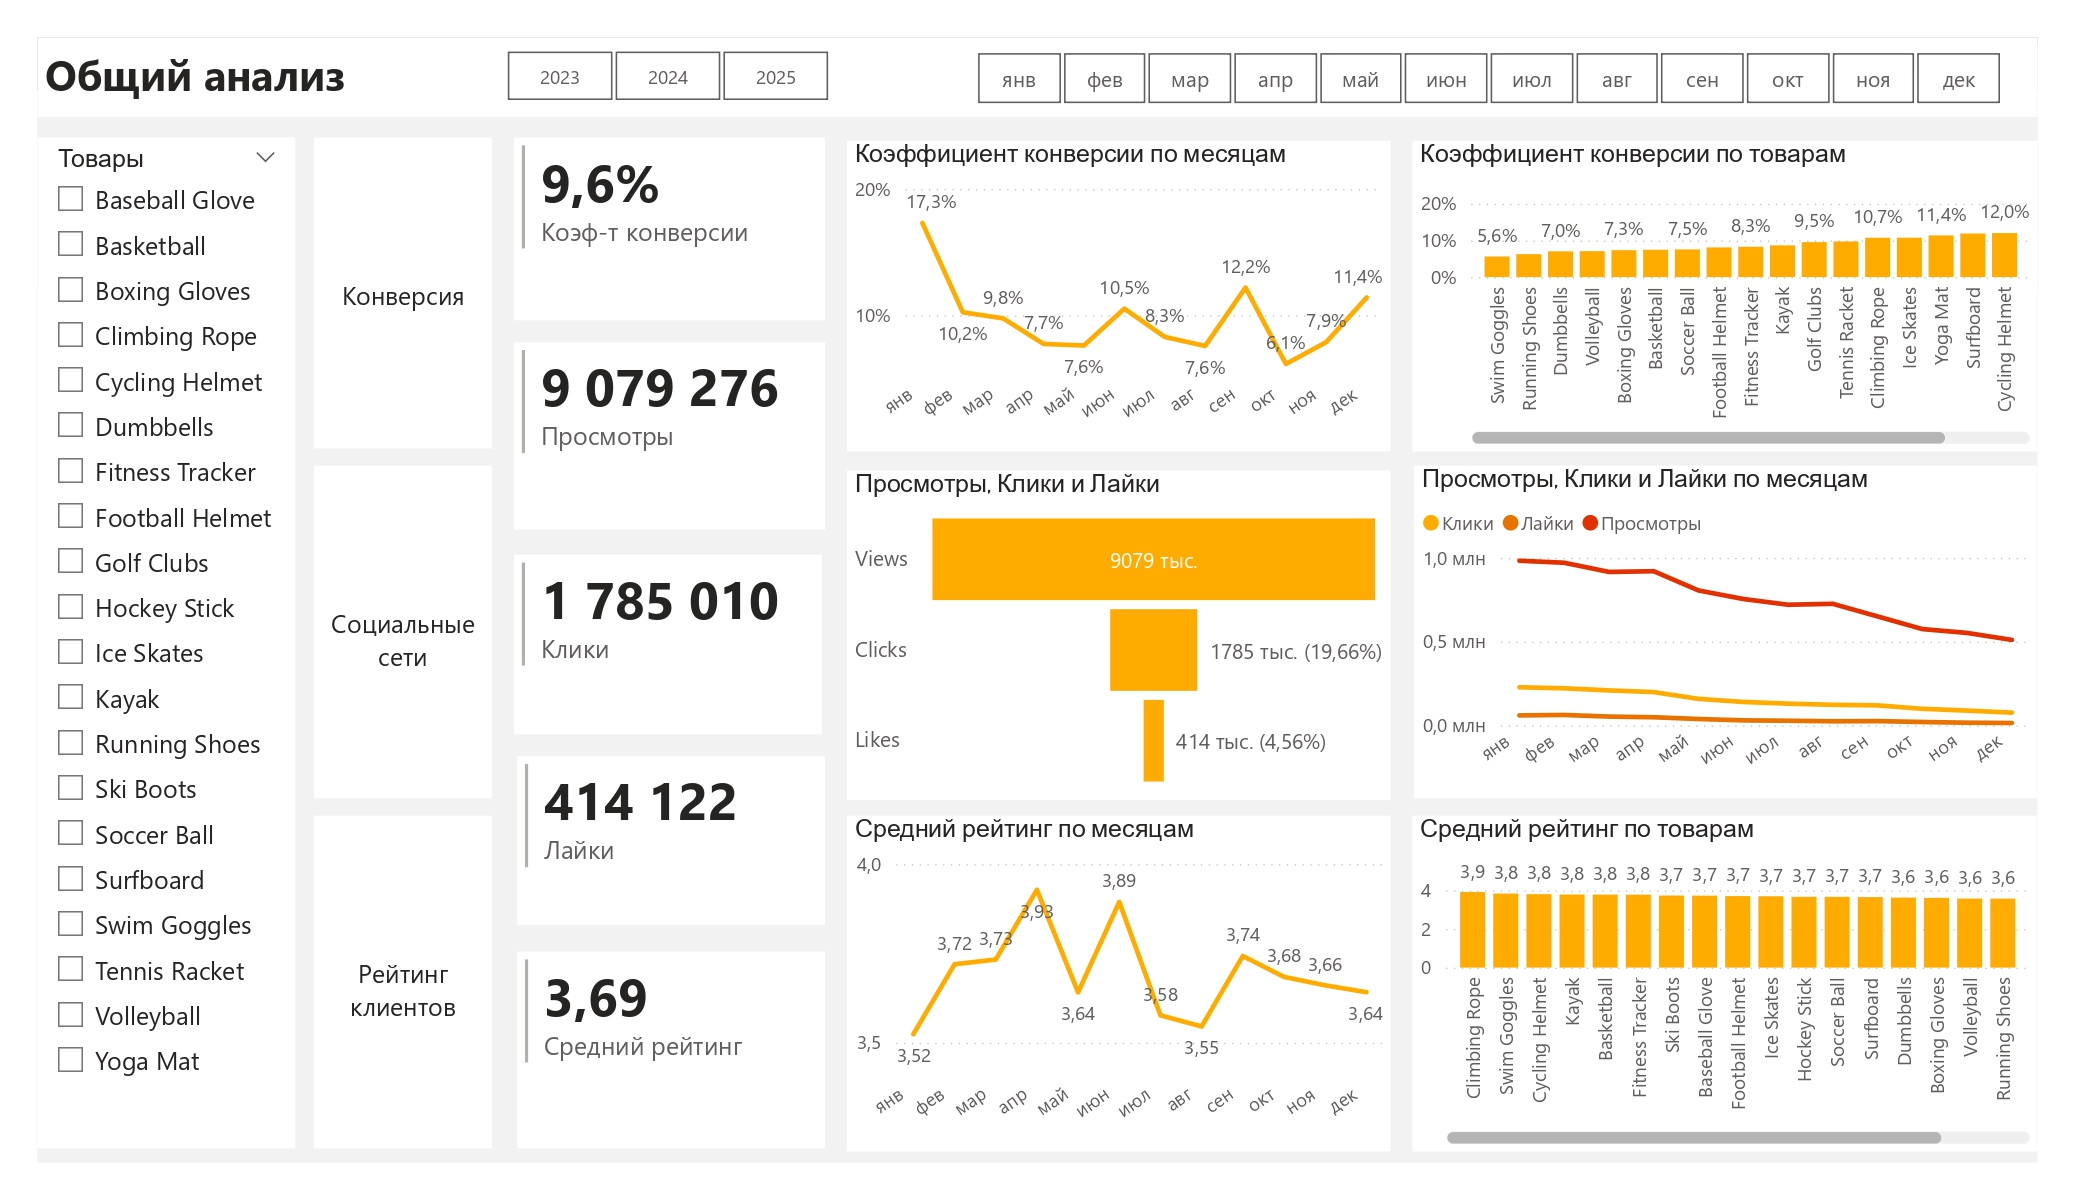

What the dashboard file says about the page in this screenshot:
{"tool":"powerbi","page":{"name":"Общий анализ","canvas":[1280,720],"ordinal":0},"visuals":[{"type":"actionButton","box":[0,0,100,40],"z":0},{"type":"textbox","box":[0,0,1280.3,50.8],"z":1000},{"type":"slicer","fields":{"Values":["dim_products.ProductName"]},"box":[0,64.5,164.7,646.3],"z":2000},{"type":"textbox","box":[177,64.5,113.9,199],"z":3000},{"type":"textbox","box":[177,274.4,113.9,212.7],"z":4000},{"type":"textbox","box":[177,498.1,113.9,212.7],"z":5000},{"type":"multiRowCard","fields":{"Values":["_Calculations.Conversion Rate"]},"box":[304.7,63.7,199.1,117.5],"z":6000},{"type":"multiRowCard","fields":{"Values":["_Calculations.Views"]},"box":[304.7,195.1,199.1,119.5],"z":7000},{"type":"multiRowCard","fields":{"Values":["_Calculations.Clicks"]},"box":[304.7,330.6,197.1,115.5],"z":8000},{"type":"multiRowCard","fields":{"Values":["_Calculations.Likes"]},"box":[306.7,460,197.1,107.5],"z":9000},{"type":"multiRowCard","fields":{"Values":["_Calculations.Rating (Average)"]},"box":[306.7,585.4,197.1,125.5],"z":10000},{"type":"slicer","fields":{"Values":["Calendar.Year"]},"box":[274.9,2.5,255,44.8],"z":11000},{"type":"slicer","fields":{"Values":["Calendar.MonthNameShort"]},"box":[575.6,3.3,704.1,45.5],"z":12000},{"type":"lineChart","title":"Коэффициент конверсии по месяцам","fields":{"Y":["_Calculations.Conversion Rate"],"Category":["Calendar.MonthNameShort"]},"box":[517.7,65.7,348.5,199.1],"z":13000},{"type":"clusteredColumnChart","title":"Коэффициент конверсии по товарам","fields":{"Y":["_Calculations.Conversion Rate"],"Category":["dim_products.ProductName"]},"box":[880.2,65.7,400.3,199.1],"z":14000},{"type":"lineChart","title":"Просмотры, Клики и Лайки по месяцам","fields":{"Category":["Calendar.MonthNameShort"],"Y":["_Calculations.Clicks","_Calculations.Likes","_Calculations.Views"]},"box":[880.6,274.3,399.7,212.4],"z":15000},{"type":"funnel","title":"Просмотры, Клики и Лайки","fields":{"Y":["_Calculations.Views","_Calculations.Clicks","_Calculations.Likes"]},"box":[517.7,276.8,348.5,211.1],"z":16000},{"type":"lineChart","title":"Средний рейтинг по месяцам","fields":{"Category":["Calendar.MonthNameShort"],"Y":["_Calculations.Rating (Average)"]},"box":[517.7,497.8,348.5,215.1],"z":17000},{"type":"clusteredColumnChart","title":"Средний рейтинг по товарам","fields":{"Category":["dim_products.ProductName"],"Y":["_Calculations.Rating (Average)"]},"box":[880.2,497.8,400.3,215.1],"z":18000}]}

Visuals, with their boxes in screenshot pixels (x1, y1, x2, y2):
actionButton: x1=38 y1=38 x2=194 y2=100
textbox: x1=38 y1=38 x2=2038 y2=117
slicer - dim_products.ProductName: x1=38 y1=138 x2=295 y2=1148
textbox: x1=314 y1=138 x2=492 y2=449
textbox: x1=314 y1=466 x2=492 y2=799
textbox: x1=314 y1=816 x2=492 y2=1148
multiRowCard - _Calculations.Conversion Rate: x1=514 y1=137 x2=825 y2=321
multiRowCard - _Calculations.Views: x1=514 y1=342 x2=825 y2=529
multiRowCard - _Calculations.Clicks: x1=514 y1=554 x2=822 y2=735
multiRowCard - _Calculations.Likes: x1=517 y1=756 x2=825 y2=924
multiRowCard - _Calculations.Rating (Average): x1=517 y1=952 x2=825 y2=1148
slicer - Calendar.Year: x1=467 y1=41 x2=865 y2=111
slicer - Calendar.MonthNameShort: x1=937 y1=43 x2=2037 y2=114
"Коэффициент конверсии по месяцам" lineChart: x1=846 y1=140 x2=1391 y2=451
"Коэффициент конверсии по товарам" clusteredColumnChart: x1=1413 y1=140 x2=2038 y2=451
"Просмотры, Клики и Лайки по месяцам" lineChart: x1=1413 y1=466 x2=2038 y2=798
"Просмотры, Клики и Лайки" funnel: x1=846 y1=470 x2=1391 y2=800
"Средний рейтинг по месяцам" lineChart: x1=846 y1=815 x2=1391 y2=1151
"Средний рейтинг по товарам" clusteredColumnChart: x1=1413 y1=815 x2=2038 y2=1151
